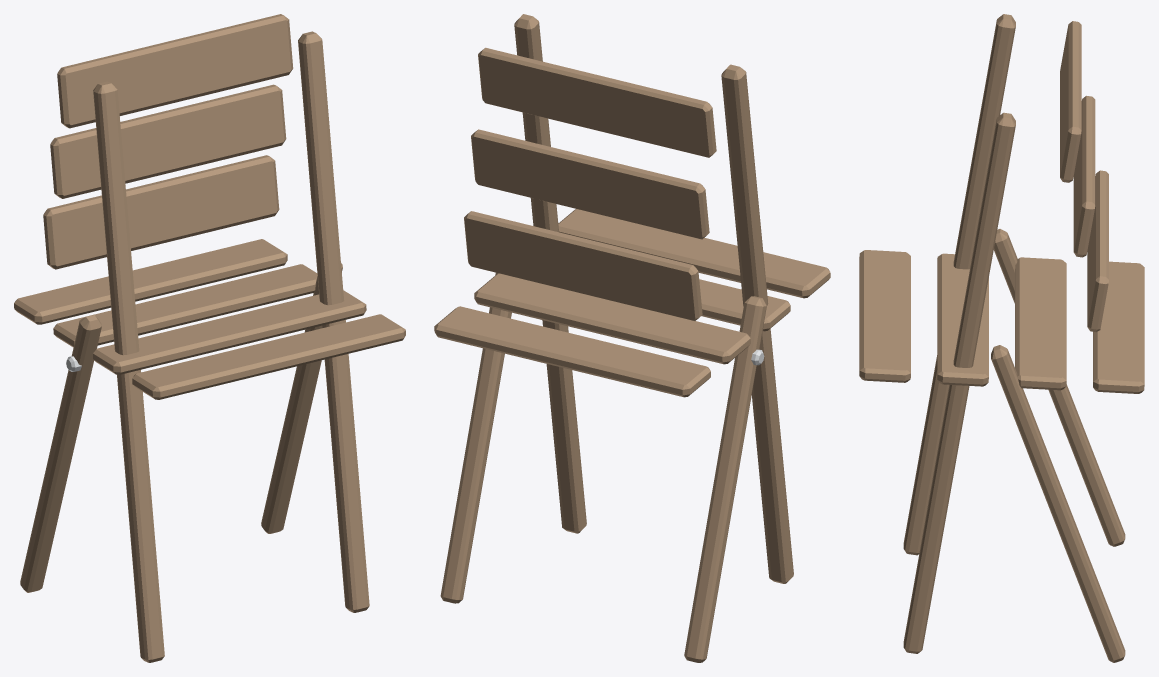
File: restaurant-kitchen-and-dining-folding-chair-outdoor-3636024f__16507.glb
3 renders of one model, left to right at view 1: azimuth 30°, elevation 25°; view 2: azimuth 150°, elevation 25°; view 3: azimuth 270°, elevation 25°, orthographic. The views are drawn at different scales.
Visible parts, largest first — view 1: folding-chair-outdoor; view 2: folding-chair-outdoor; view 3: folding-chair-outdoor.
Part boxes in pixels (x1,y1,x2,y2): folding-chair-outdoor: (14,14,405,662); folding-chair-outdoor: (434,14,830,662); folding-chair-outdoor: (859,14,1144,662).
Size of the model in its own units: 0.438 by 0.8625 by 0.4154.
